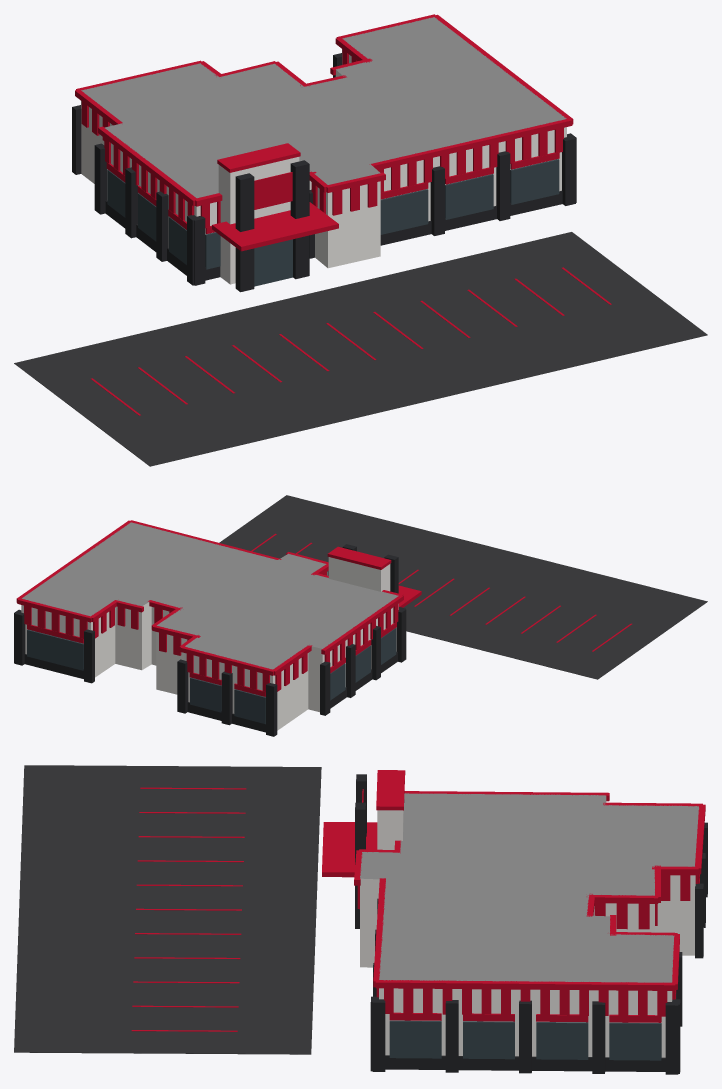
The model's file is kfc1.glb.
3 views of the same model, one above another, from view 1: azimuth 30°, elevation 25°; view 2: azimuth 150°, elevation 25°; view 3: azimuth 270°, elevation 25° (orthographic). The views are drawn at different scales.
Visible parts, largest first — view 1: kfc1_lod0; view 2: kfc1_lod0; view 3: kfc1_lod0.
Part boxes in pixels (box(x1,y1,x2,y2)): kfc1_lod0: box(14, 14, 707, 466); kfc1_lod0: box(14, 495, 707, 736); kfc1_lod0: box(14, 765, 707, 1074).
Size of what is drawn, in the model's own units: 34.46 by 6.4 by 32.68.
